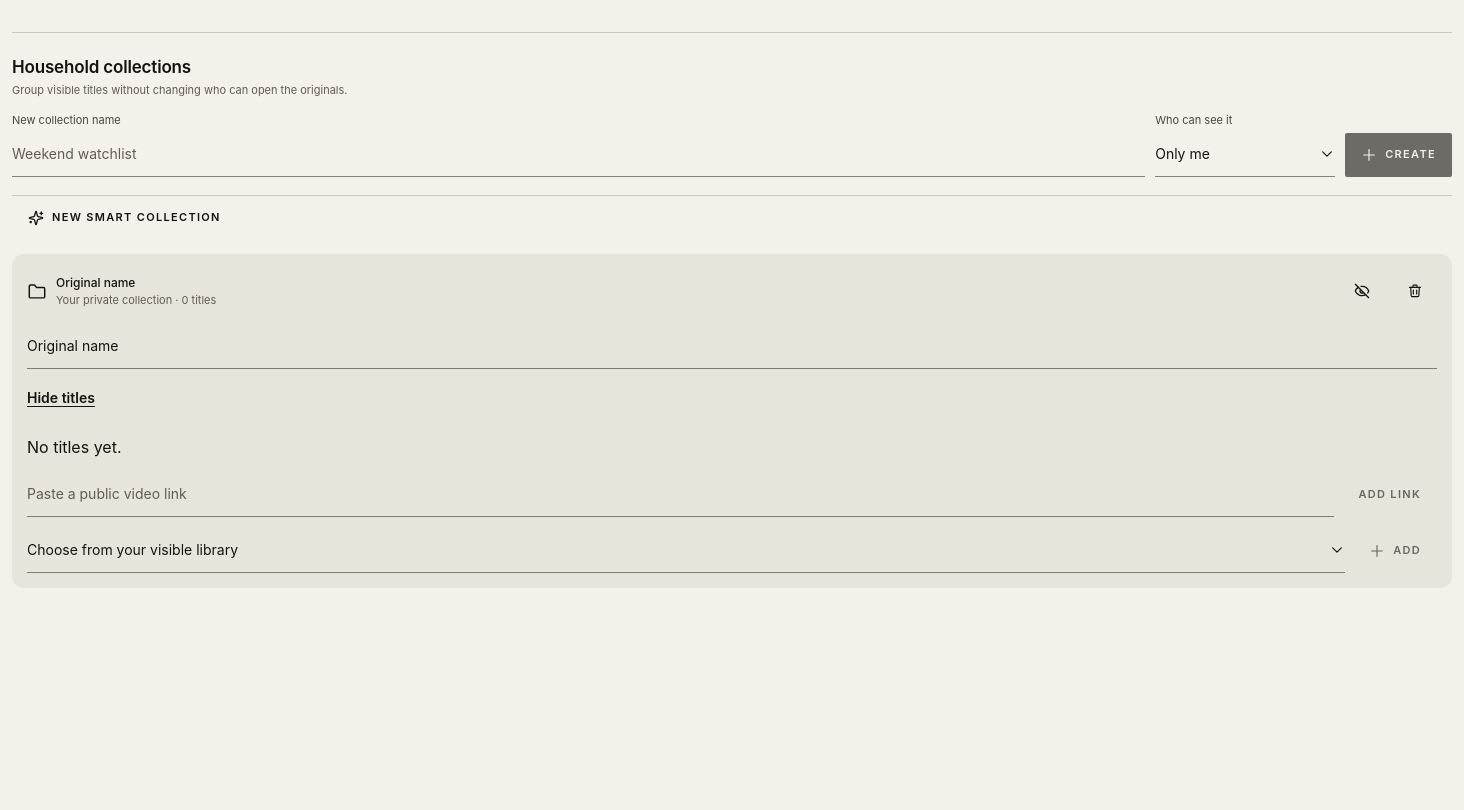
Test: household collection recovery › rolls a rejected controlled rename back and clears a successful membership choice
The image size is (1464, 810).
Replace the text in the field named "rename original name" with "Rejected name": point(732, 346) [27,324,1437,368]
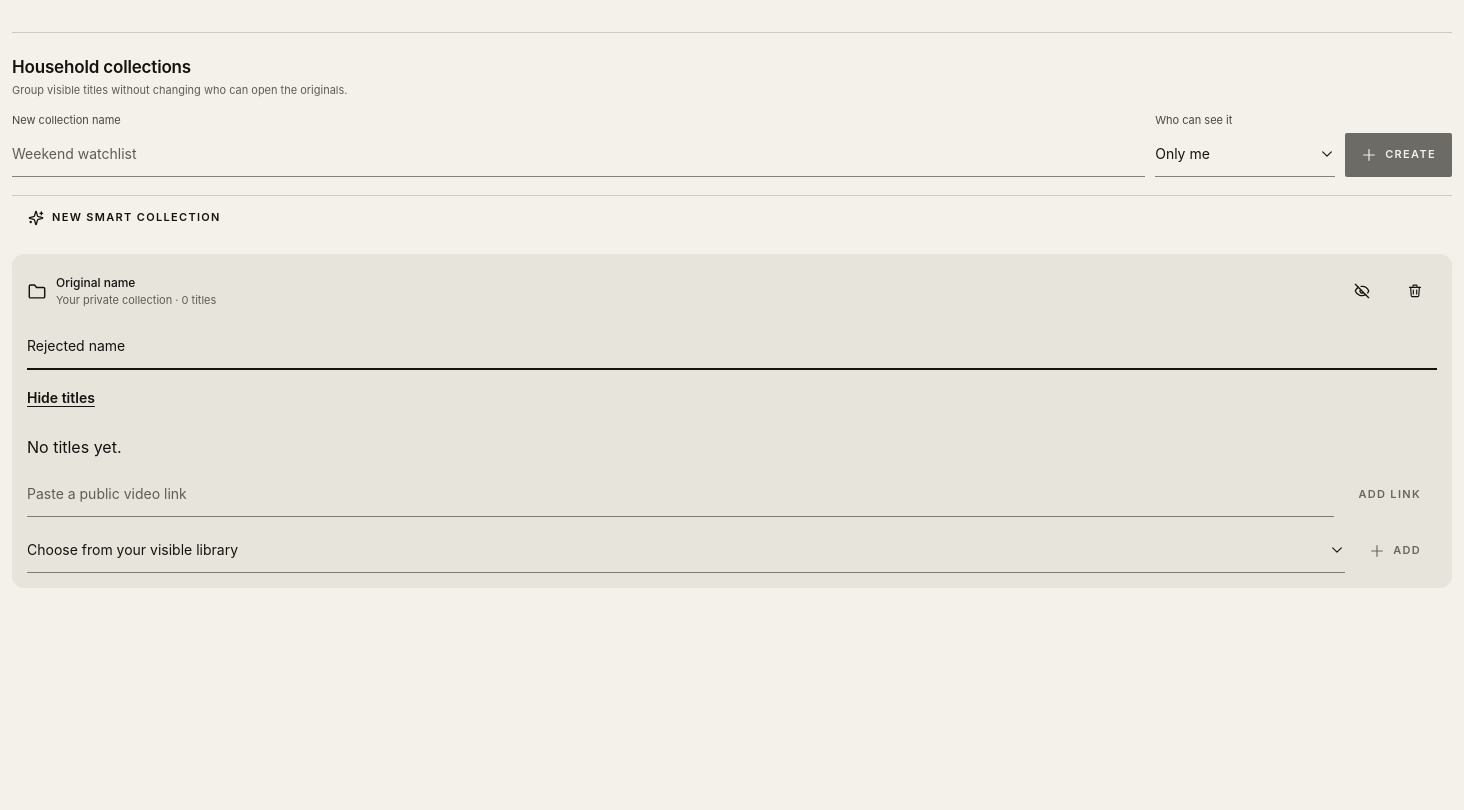
Press Tab
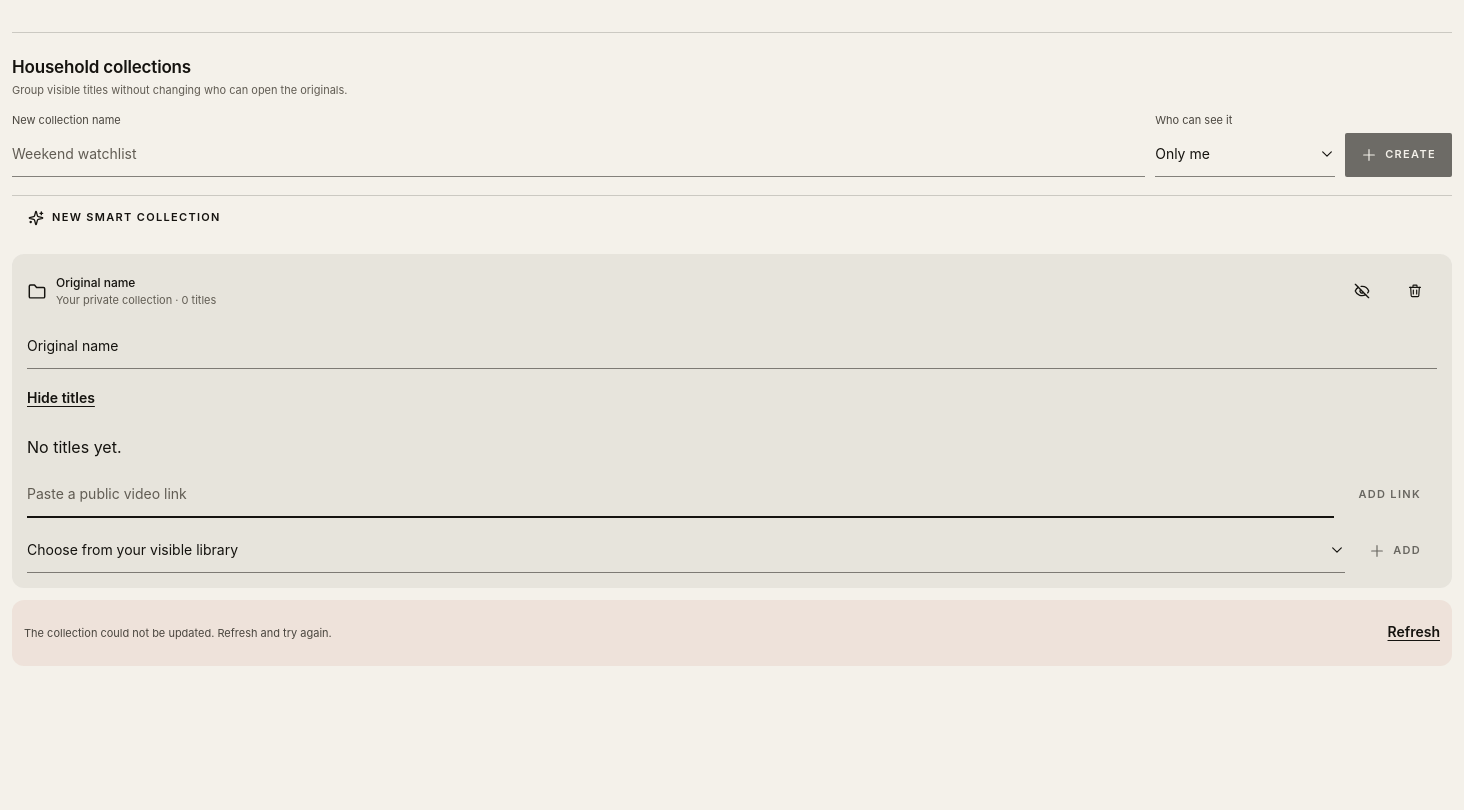
expect the field named "rename original name" holds "Original name": met, box [27,324,1437,368]
Click the dropdown named "choose a title for original name": point(133, 549) [27,528,1345,572]
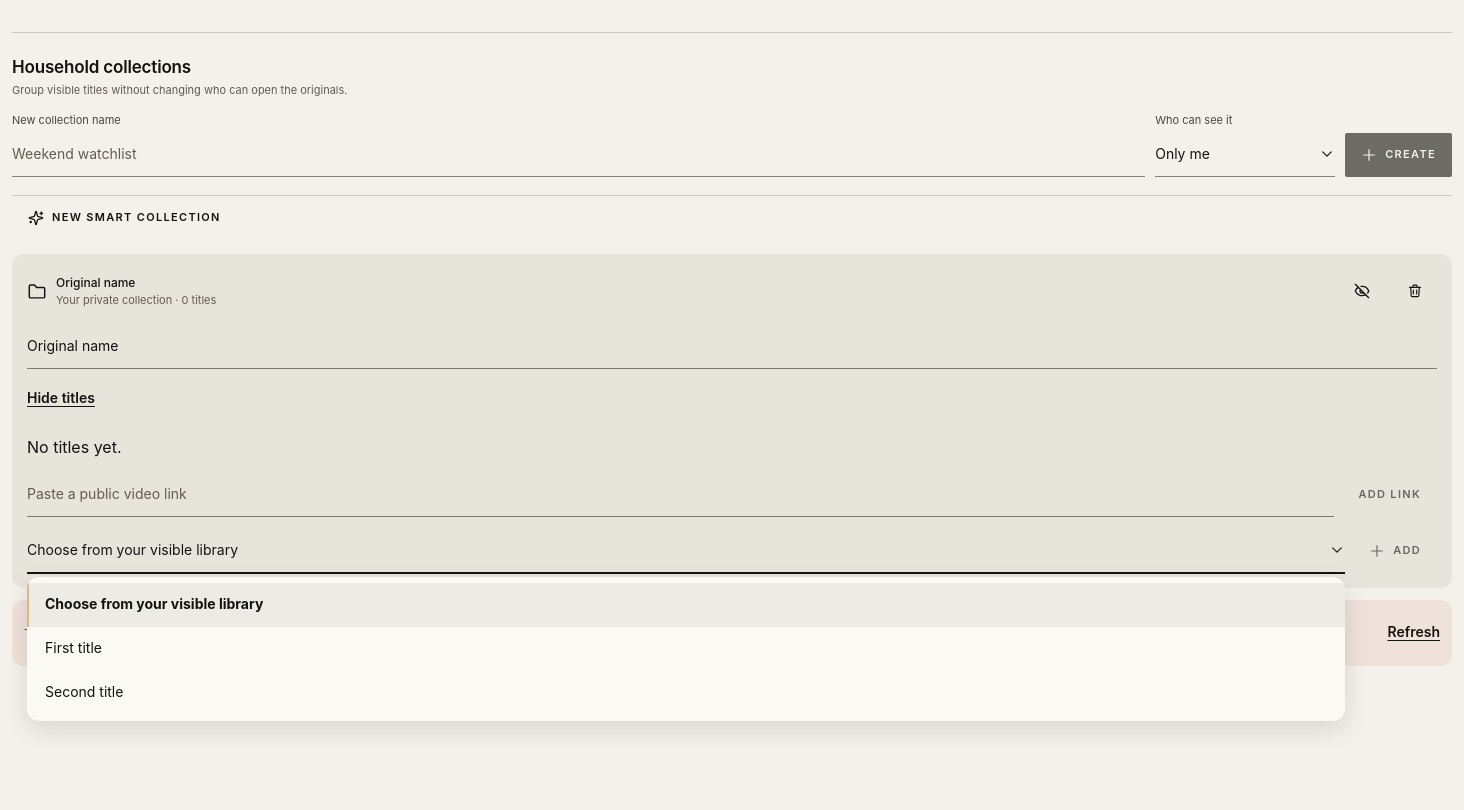
Click the option "First title": point(73, 648) [45,639,102,656]
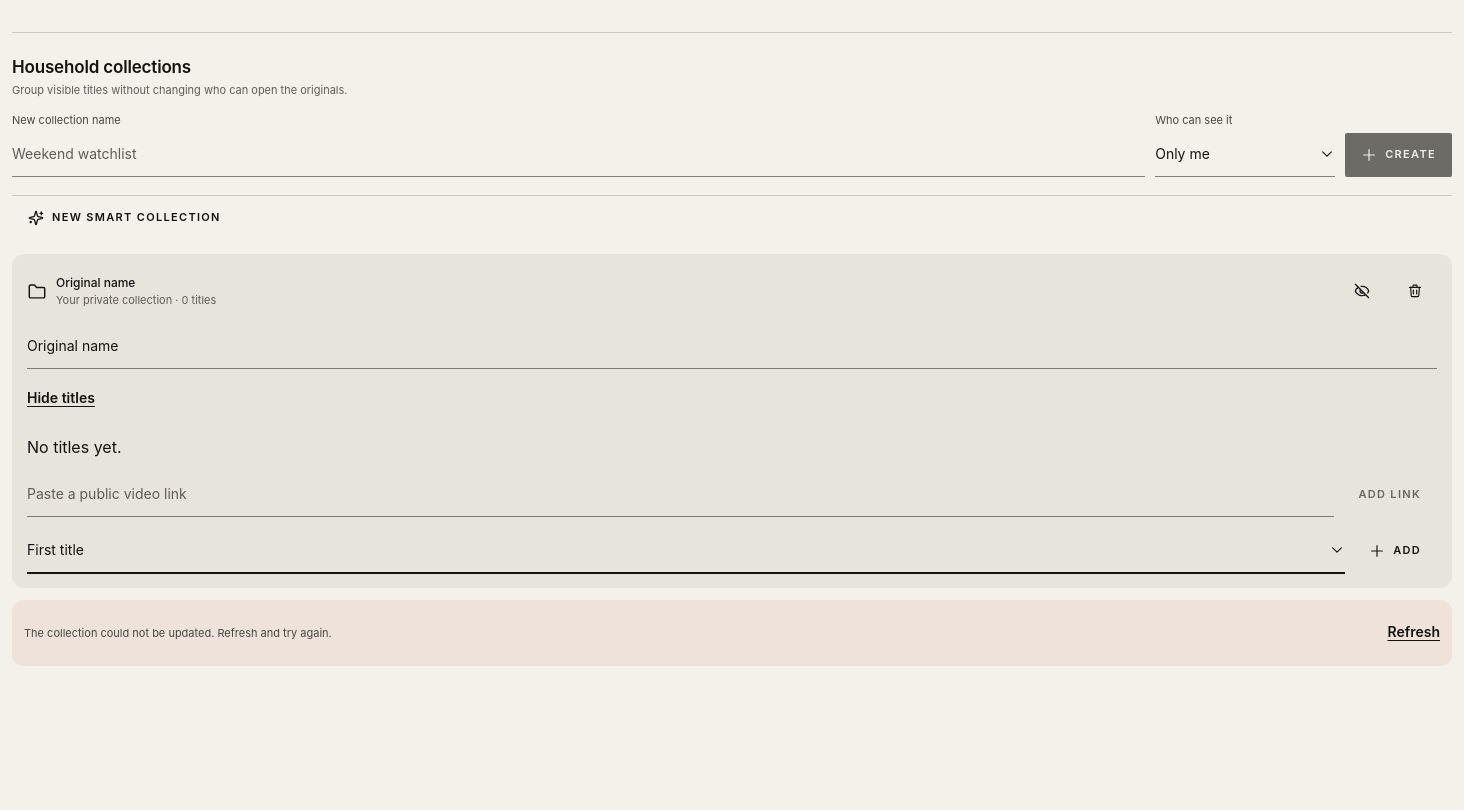
Click the button "Add": point(1395, 550) [1353,528,1437,572]
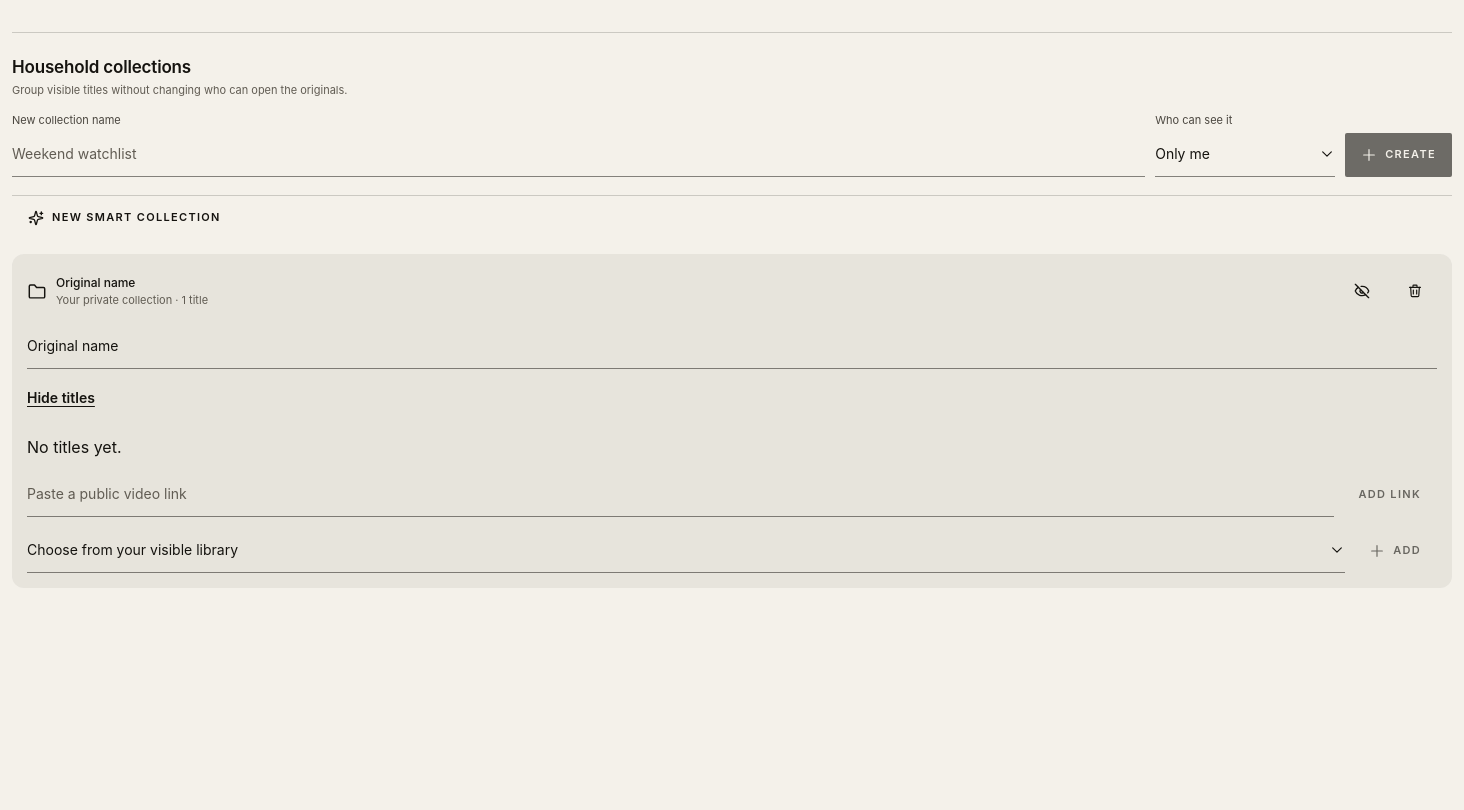
expect the dropdown named "choose a title for original name" reads "Choose from your visible library": met, box [27,528,1345,572]
